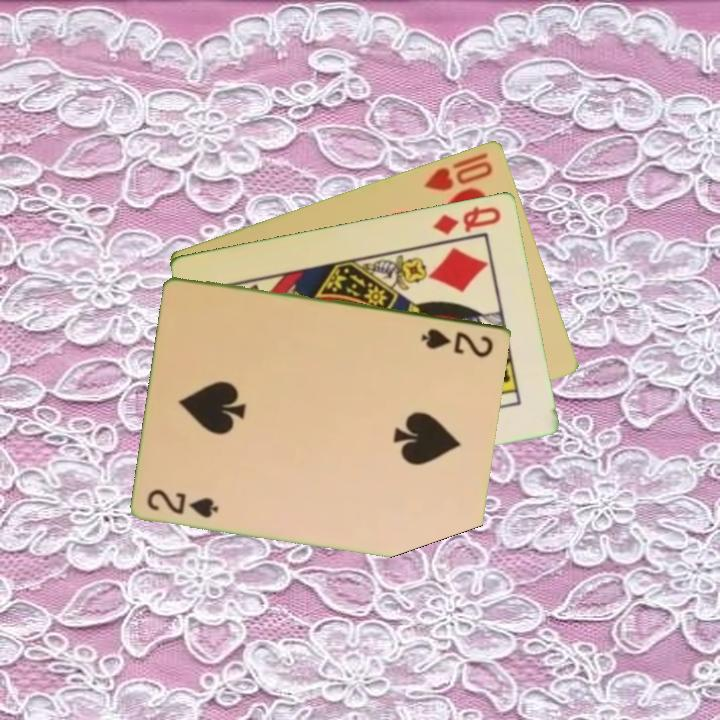10h: (420, 148, 496, 194)
2s: (418, 324, 497, 360), (144, 485, 222, 521)
Qd: (429, 202, 505, 237)
